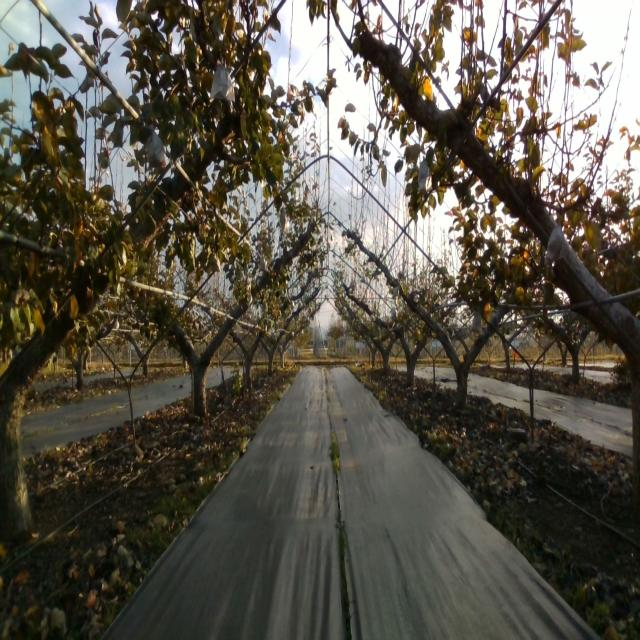pearbags: (210, 55, 236, 103), (145, 124, 167, 168), (546, 225, 564, 262), (419, 164, 431, 193), (207, 250, 222, 272), (470, 308, 482, 334)
